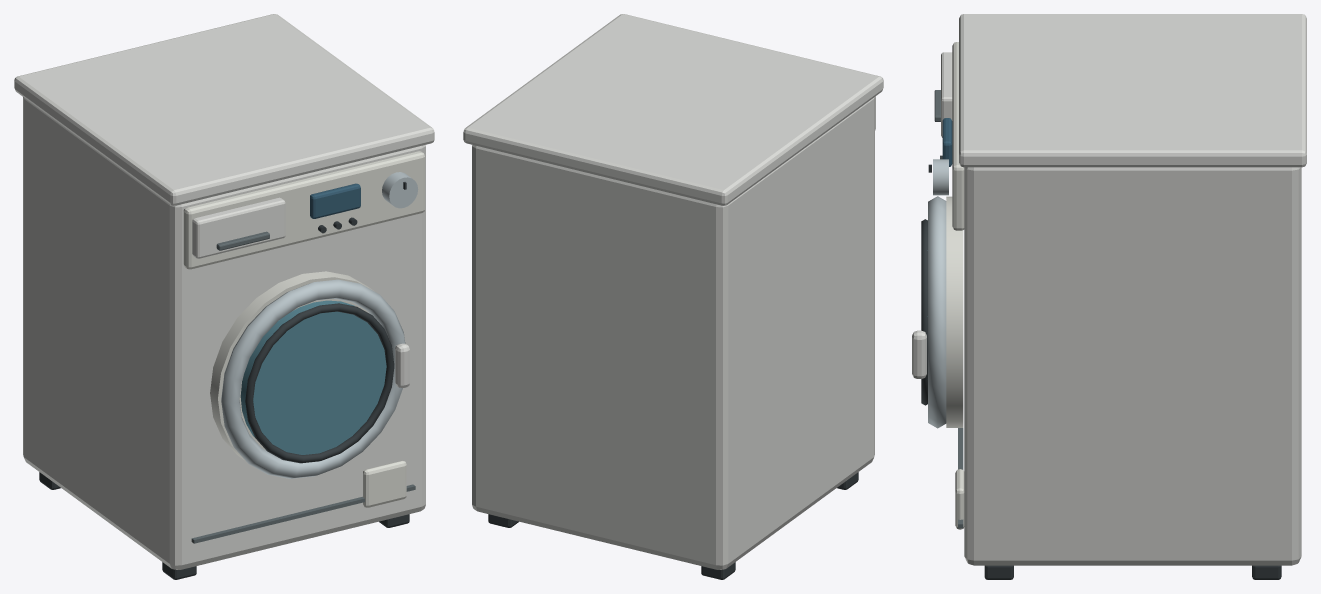
Rendered from appliance_washing_machine.glb.
3 views of the same model, side by side, from view 1: azimuth 30°, elevation 25°; view 2: azimuth 150°, elevation 25°; view 3: azimuth 270°, elevation 25° (orthographic). The views are drawn at different scales.
Parts seen in each view (by area): view 1: Washer_Cabinet, Washer_Top_Lid, Washer_Blue_Glass_Door, Washer_Control_Band, Washer_Outer_Door_Frame, Washer_Glass_Inner_Seal, Washer_Detergent_Drawer, Washer_Door_Mount, Washer_Filter_Access_Cover, Washer_Display, Washer_Lower_Panel_Seam, Washer_Program_Dial (+1 smaller); view 2: Washer_Cabinet, Washer_Top_Lid; view 3: Washer_Cabinet, Washer_Top_Lid, Washer_Outer_Door_Frame, Washer_Door_Mount, Washer_Control_Band, Washer_Glass_Inner_Seal, Washer_Detergent_Drawer, Washer_Door_Handle, Washer_Program_Dial, Washer_Filter_Access_Cover.
Part boxes in pixels (left/top/right/bottom): Washer_Cabinet: left=23, top=97, right=425, bottom=569; Washer_Top_Lid: left=14, top=14, right=434, bottom=205; Washer_Blue_Glass_Door: left=240, top=300, right=386, bottom=454; Washer_Control_Band: left=183, top=151, right=424, bottom=269; Washer_Outer_Door_Frame: left=221, top=279, right=405, bottom=478; Washer_Glass_Inner_Seal: left=245, top=303, right=394, bottom=463; Washer_Detergent_Drawer: left=192, top=197, right=285, bottom=258; Washer_Door_Mount: left=210, top=271, right=374, bottom=460; Washer_Filter_Access_Cover: left=363, top=460, right=406, bottom=507; Washer_Display: left=310, top=183, right=360, bottom=218; Washer_Lower_Panel_Seam: left=191, top=484, right=415, bottom=543; Washer_Program_Dial: left=382, top=172, right=418, bottom=208; Washer_Cabinet: left=472, top=97, right=874, bottom=569; Washer_Top_Lid: left=463, top=14, right=883, bottom=205; Washer_Cabinet: left=964, top=167, right=1301, bottom=565; Washer_Top_Lid: left=959, top=14, right=1306, bottom=167; Washer_Outer_Door_Frame: left=928, top=196, right=946, bottom=428; Washer_Door_Mount: left=946, top=196, right=963, bottom=427; Washer_Control_Band: left=952, top=42, right=964, bottom=230; Washer_Glass_Inner_Seal: left=921, top=219, right=927, bottom=405; Washer_Detergent_Drawer: left=941, top=52, right=952, bottom=137; Washer_Door_Handle: left=912, top=330, right=926, bottom=378; Washer_Program_Dial: left=933, top=159, right=948, bottom=195; Washer_Filter_Access_Cover: left=955, top=469, right=964, bottom=529.
Size of the model in its own units: 0.62 by 0.8995 by 0.738.
